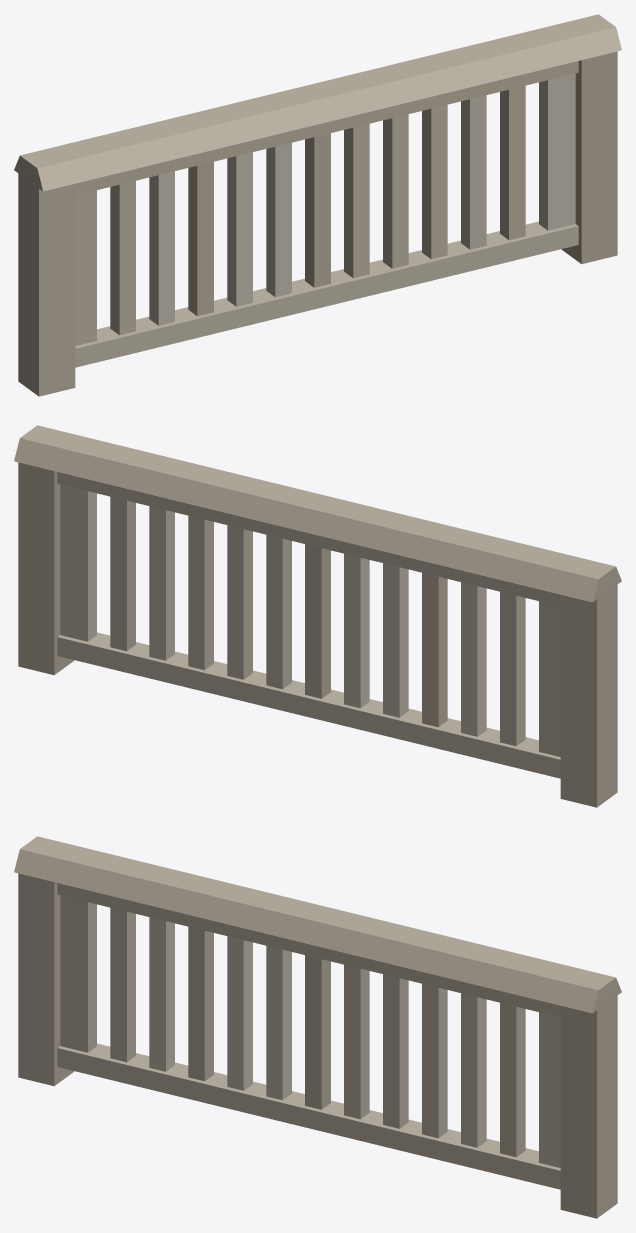
The model's file is Railing8.glb.
The picture shows the model from 3 angles, top to bottom: view 1: azimuth 30°, elevation 25°; view 2: azimuth 150°, elevation 25°; view 3: azimuth 330°, elevation 25°; orthographic projection.
Parts seen in each view (by area): view 1: Wood; view 2: Wood; view 3: Wood.
Part boxes in pixels (left/top/right/bottom): Wood: left=14, top=14, right=621, bottom=396; Wood: left=14, top=425, right=621, bottom=807; Wood: left=14, top=836, right=621, bottom=1218.
Size of what is drawn, in the model's own units: 8 by 3 by 0.7.
